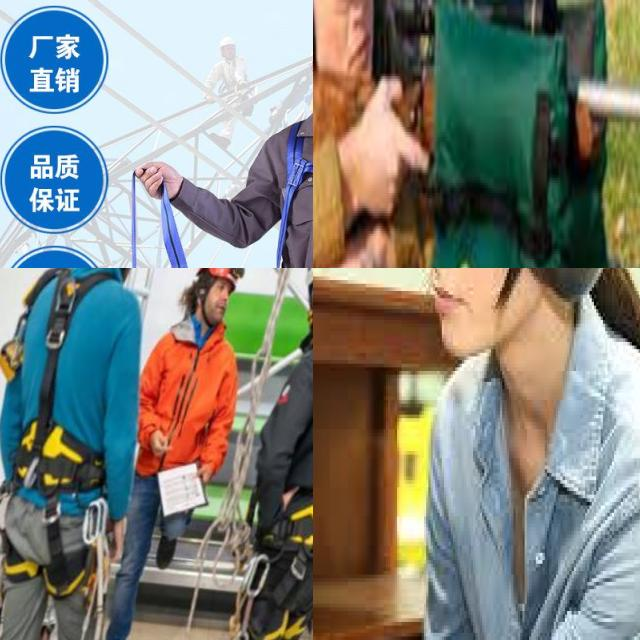Ear-protection: (313, 0, 391, 124)
Harness: (2, 268, 112, 598), (264, 490, 313, 551)
person: (313, 0, 425, 268)
